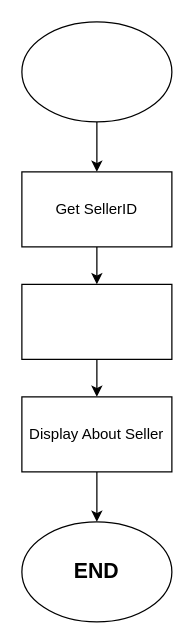
The diagram is 194 pixels wide and 644 high, and some of its shapes have lost their labels. Each missing label, with the centre of its shape:
Get About Seller from User table Using SellerID: the point at 96,321
Start: the point at 96,71
